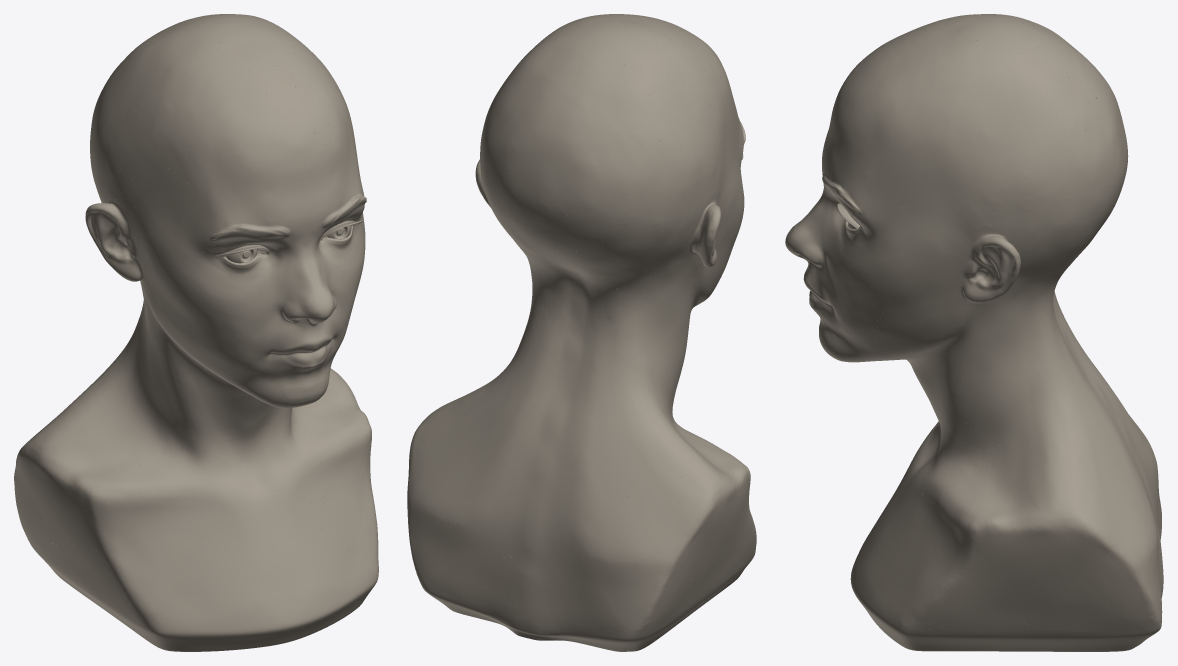
The model's file is 石膏头像_女中青年_Girl Head_opt.glb.
3 views of the same model, side by side, from view 1: azimuth 30°, elevation 25°; view 2: azimuth 150°, elevation 25°; view 3: azimuth 270°, elevation 25° (orthographic). The views are drawn at different scales.
Parts seen in each view (by area): view 1: head__0; view 2: head__0; view 3: head__0.
Part boxes in pixels (bbox=[...]): head__0: bbox=[14, 14, 378, 651]; head__0: bbox=[407, 14, 756, 651]; head__0: bbox=[785, 14, 1163, 651].
Bounding box in the file's own units: 0.2265 × 0.4 × 0.2378.
